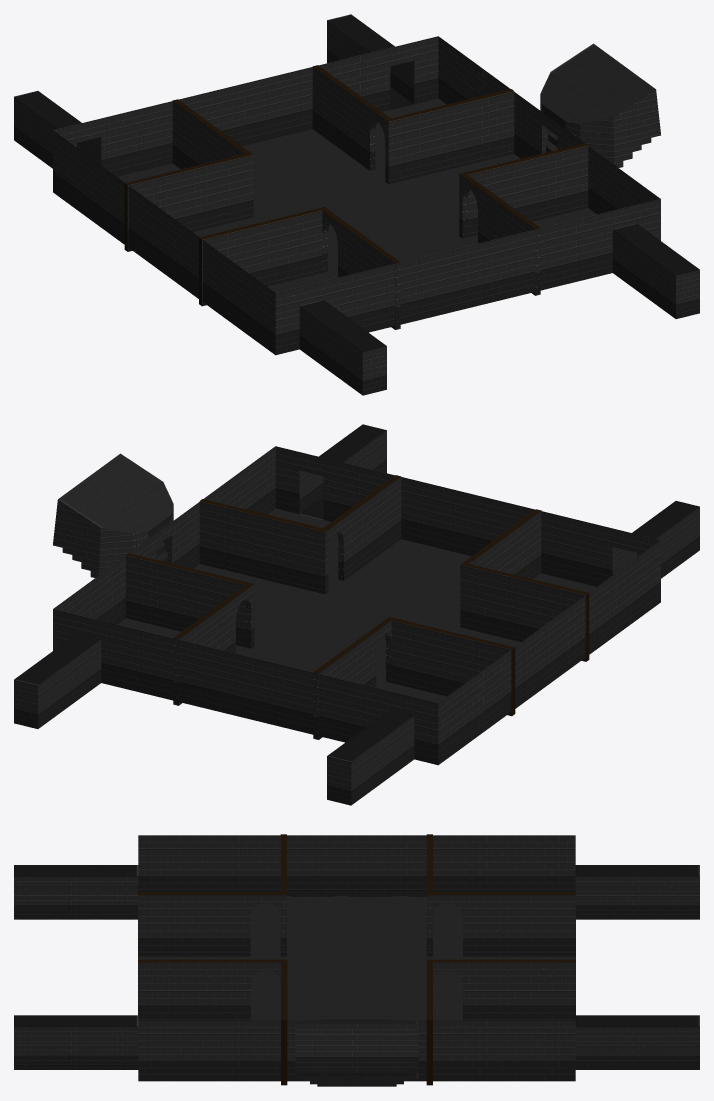
Rendered from interiorLayout.fbx.
The picture shows the model from 3 angles, top to bottom: view 1: azimuth 30°, elevation 25°; view 2: azimuth 150°, elevation 25°; view 3: azimuth 270°, elevation 25°; orthographic projection.
Visible parts, largest first — view 1: pCube21; view 2: pCube21; view 3: pCube21.
Part boxes in pixels (box(x1,y1,x2,y2)): pCube21: box(14, 14, 699, 395); pCube21: box(14, 424, 699, 805); pCube21: box(14, 834, 699, 1086).
Bounding box in the file's own units: 85.04 × 17.24 × 110.
